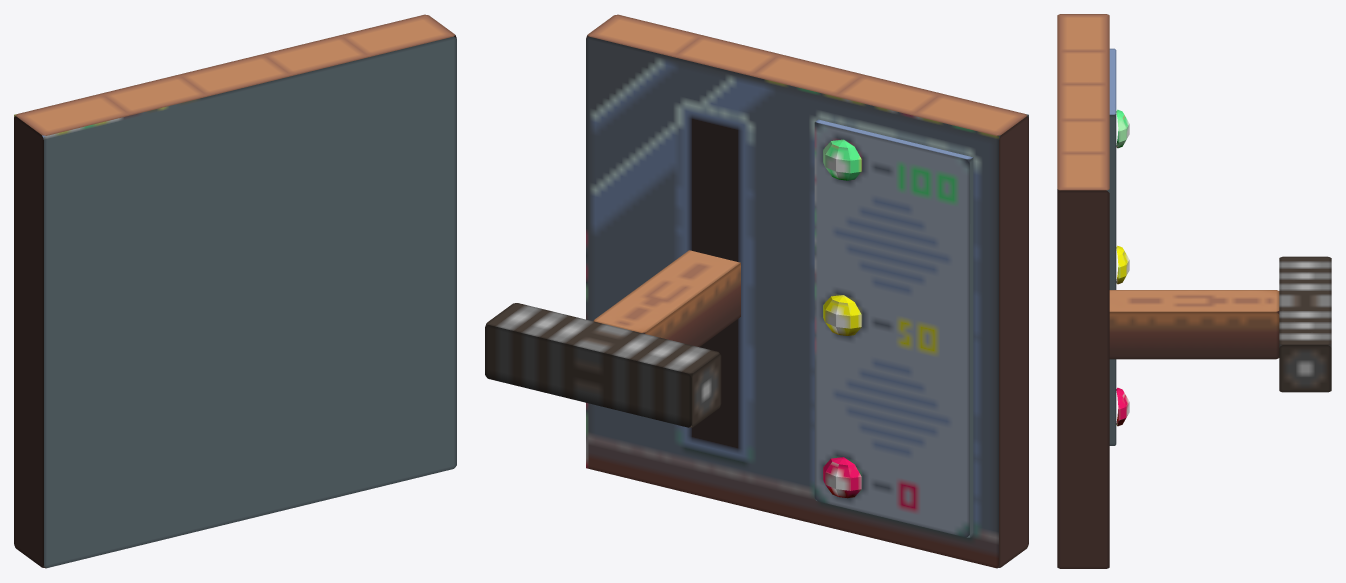
File: Lever.fbx
3 views of the same model, side by side, from view 1: azimuth 30°, elevation 25°; view 2: azimuth 150°, elevation 25°; view 3: azimuth 270°, elevation 25° (orthographic). The views are drawn at different scales.
Visible parts, largest first — view 1: cuboid; view 2: cuboid, cuboid_1, cuboid_2, sphere_2, sphere, sphere_1; view 3: cuboid, cuboid_2, cuboid_1, sphere_2, sphere, sphere_1.
Part boxes in pixels (<box>): cuboid: <box>14,14,456,568</box>; cuboid: <box>586,14,1028,568</box>; cuboid_1: <box>814,119,973,537</box>; cuboid_2: <box>485,250,740,427</box>; sphere_2: <box>823,457,861,498</box>; sphere: <box>823,139,861,180</box>; sphere_1: <box>823,295,861,335</box>; cuboid: <box>1057,14,1109,568</box>; cuboid_2: <box>1109,256,1331,392</box>; cuboid_1: <box>1106,48,1116,445</box>; sphere_2: <box>1116,387,1129,426</box>; sphere: <box>1116,109,1129,148</box>; sphere_1: <box>1116,245,1129,284</box>.
Size of the model in its own units: 100 by 100 by 65.62.
1 material, 1 textured.
